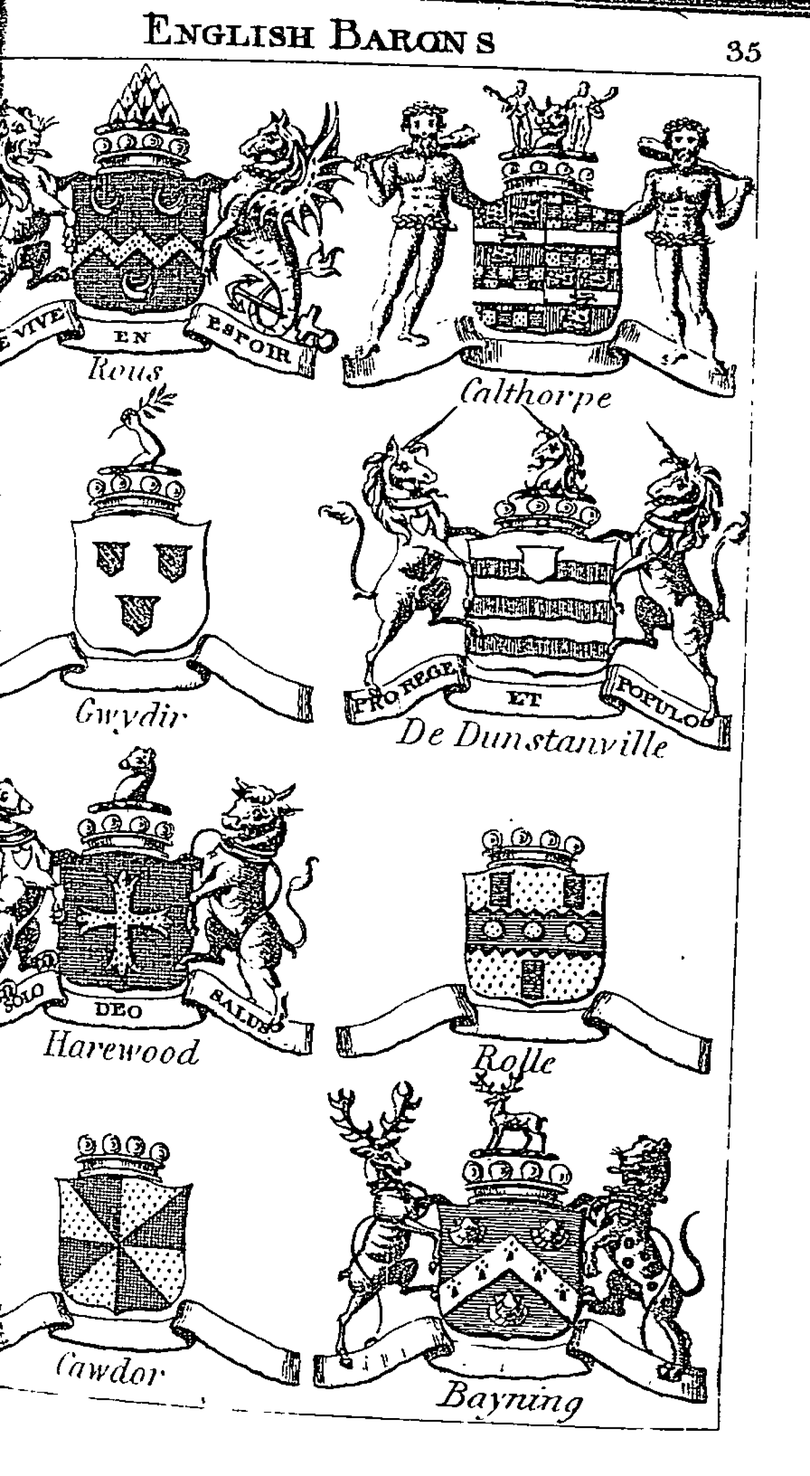coat_of_arms: (333, 406, 745, 765), (342, 73, 754, 422), (306, 1076, 716, 1422), (325, 774, 732, 1085), (10, 389, 332, 751), (3, 59, 336, 401), (5, 748, 318, 1085), (2, 1103, 307, 1420)
